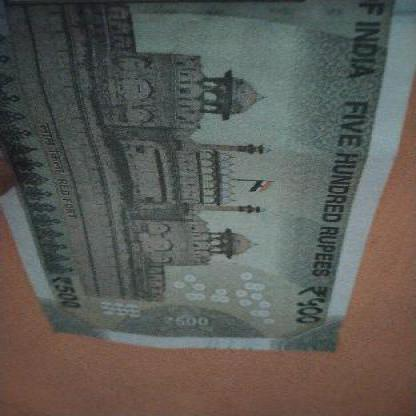New500Back: (0, 0, 412, 353)
